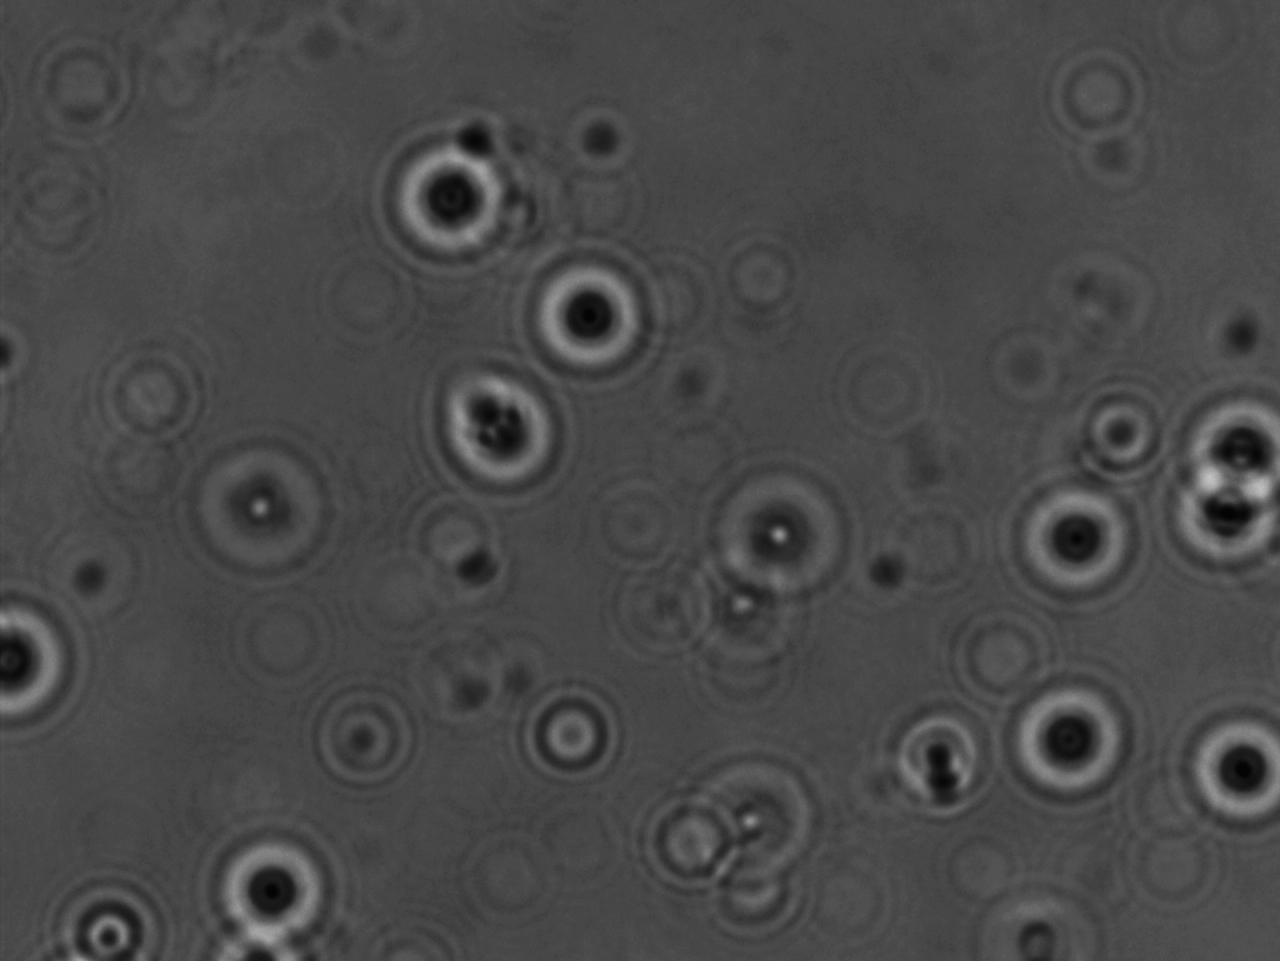depth:-16: (187, 815, 372, 960), (992, 675, 1143, 815), (1001, 462, 1135, 612), (510, 256, 652, 392), (372, 127, 509, 259), (430, 355, 559, 493), (1153, 373, 1280, 506), (1173, 698, 1280, 833)
